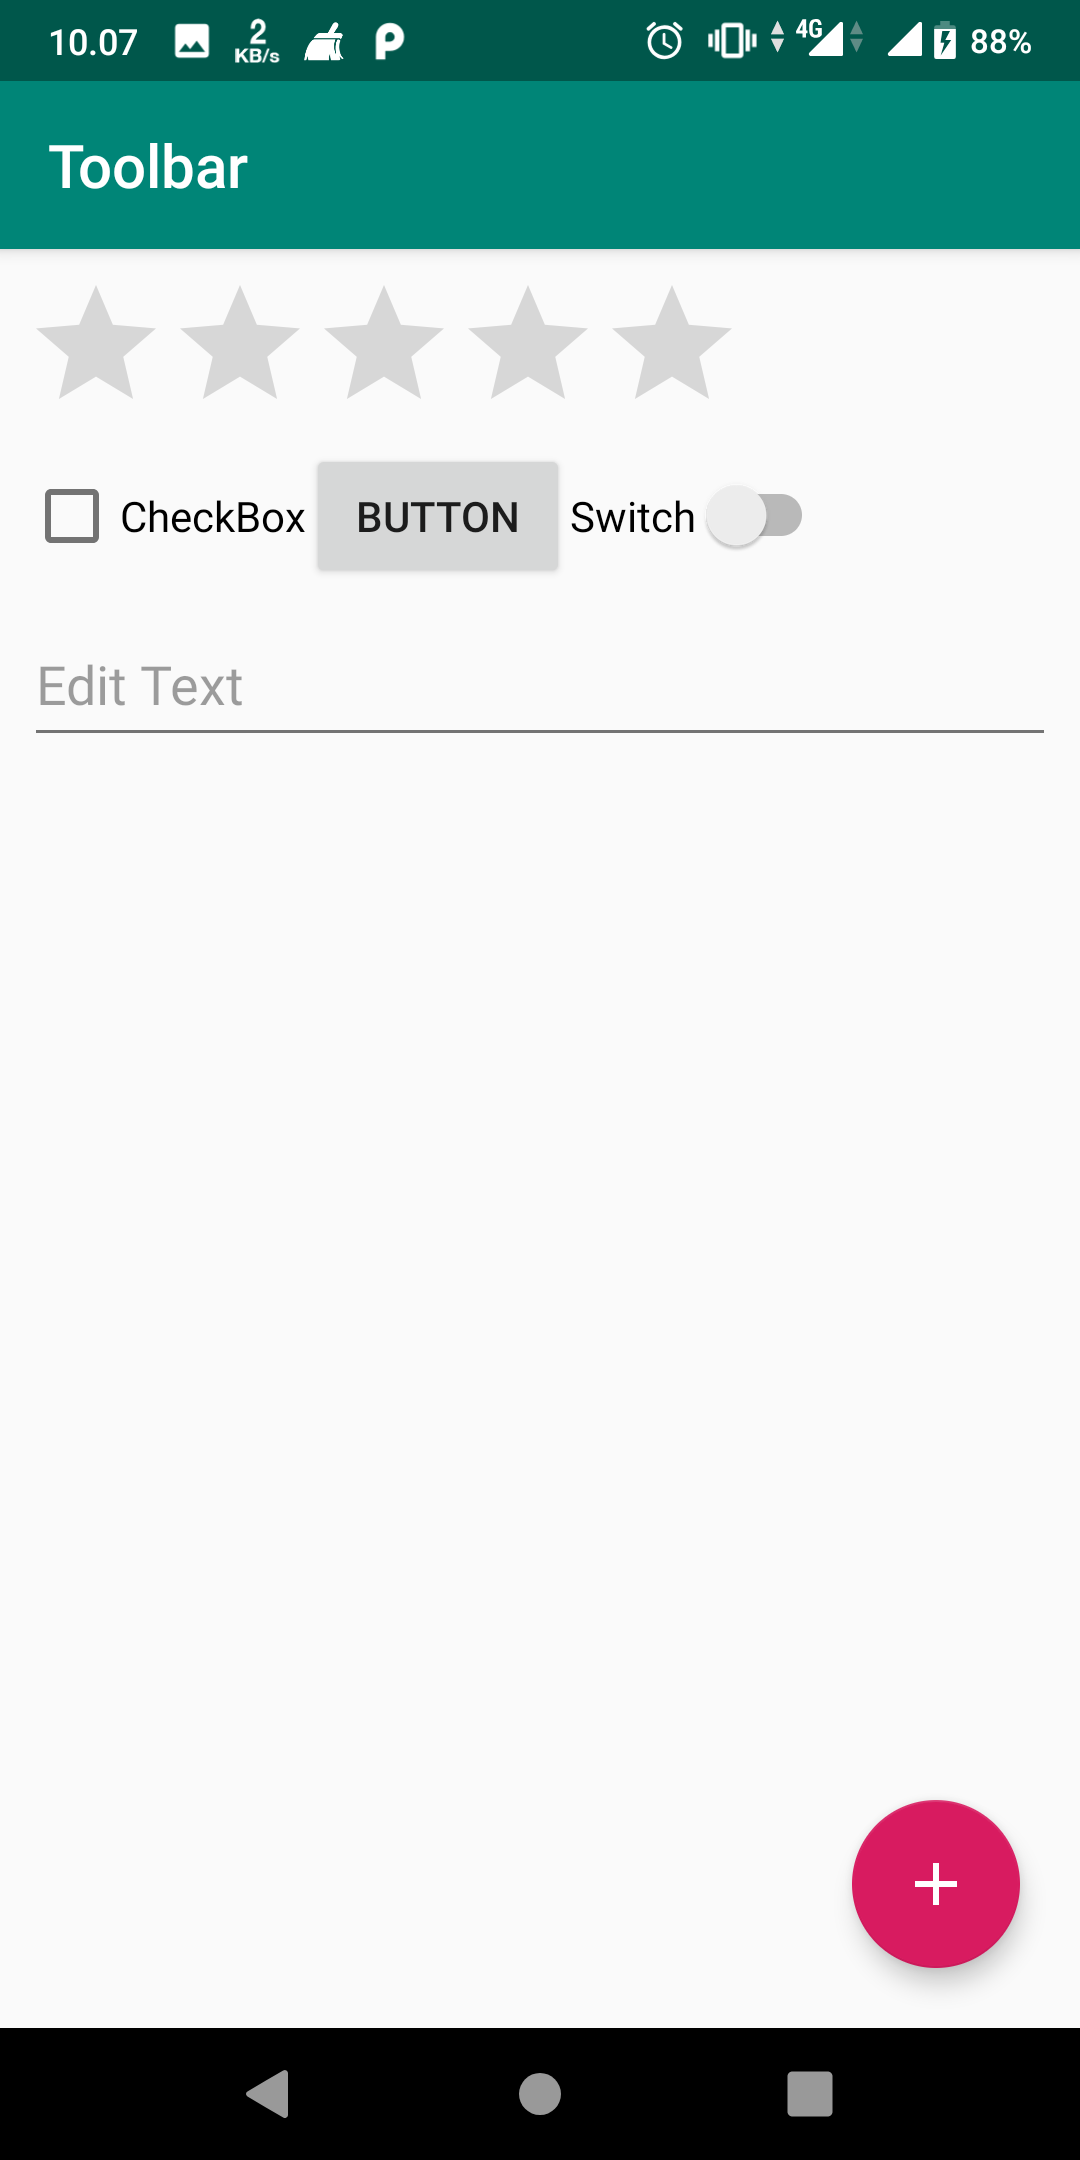button: (309, 457, 568, 580)
checkBox: (34, 479, 309, 554)
editText: (25, 657, 1057, 754)
floatingButton: (839, 1787, 1033, 1980)
ratingBar: (32, 282, 738, 409)
switch: (568, 477, 816, 561)
toolbar: (3, 80, 1080, 249)
